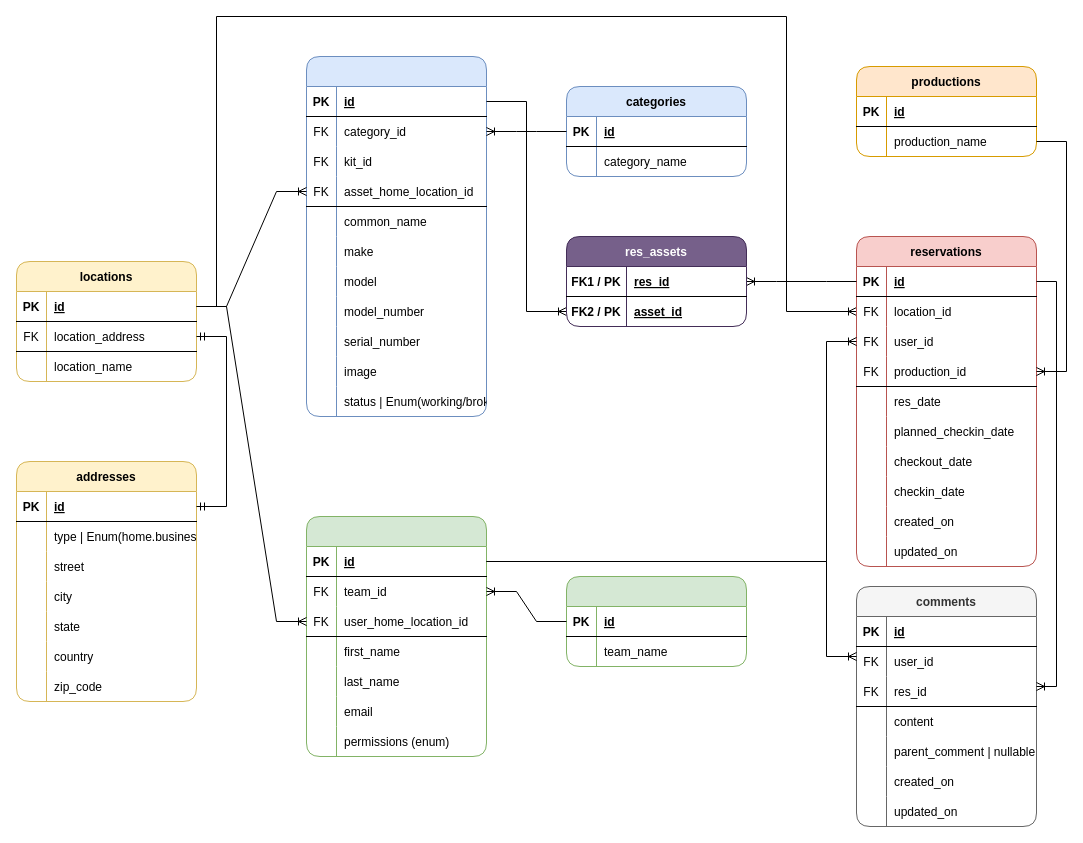
Some shapes in this 1083 by 843 pixel diagram are drawn without their labels. Here are the shapes that lost their labels. From the top down, the box of each, then its label:
(306, 56, 486, 416): assets
(306, 516, 486, 756): users
(566, 576, 746, 666): teams
